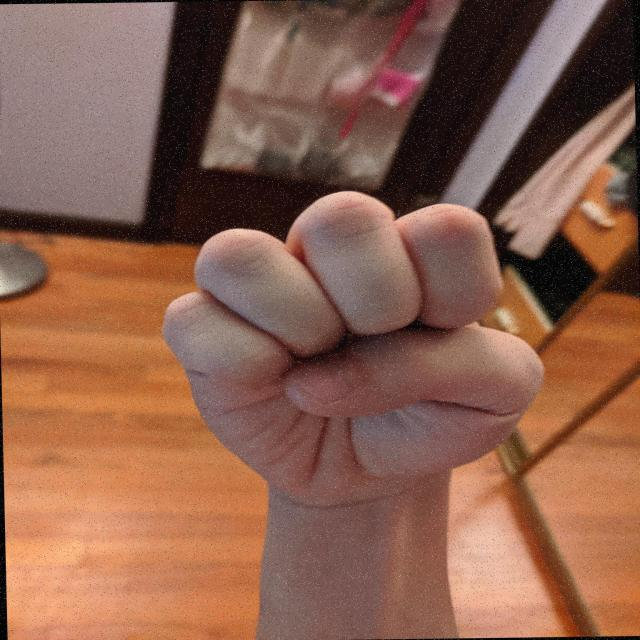E: (154, 184, 556, 507)
